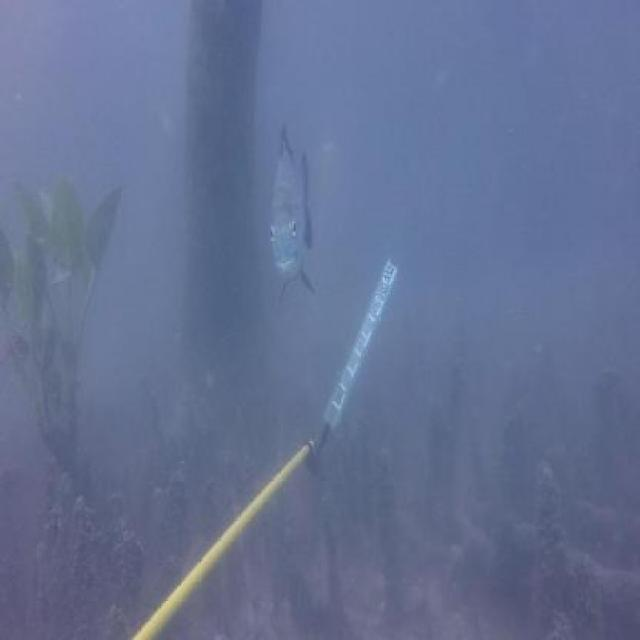acanthopagrus_palmaris: (262, 127, 322, 310)
